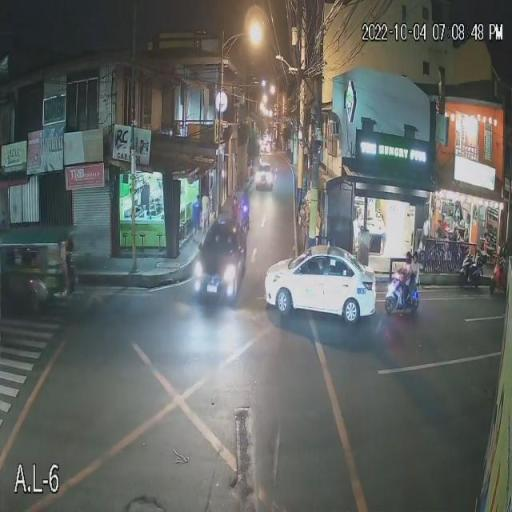helmet: (404, 251, 413, 263), (412, 251, 420, 264)
motorcycle: (383, 278, 423, 314)
rider: (406, 262, 420, 297), (403, 265, 411, 300)
